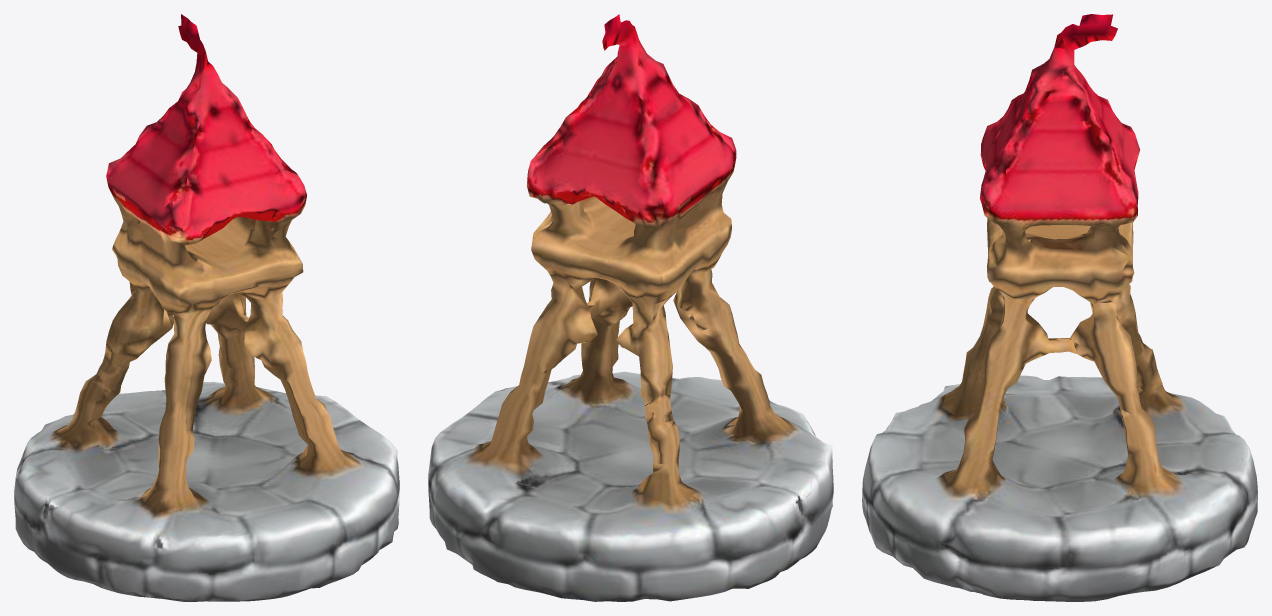
Rendered from archer.glb.
3 views of the same model, side by side, from view 1: azimuth 30°, elevation 25°; view 2: azimuth 150°, elevation 25°; view 3: azimuth 270°, elevation 25° (orthographic). The views are drawn at different scales.
Size of the model in its own units: 0.6855 by 0.9831 by 0.6868.
Materials: 1 (1 with a texture image).
